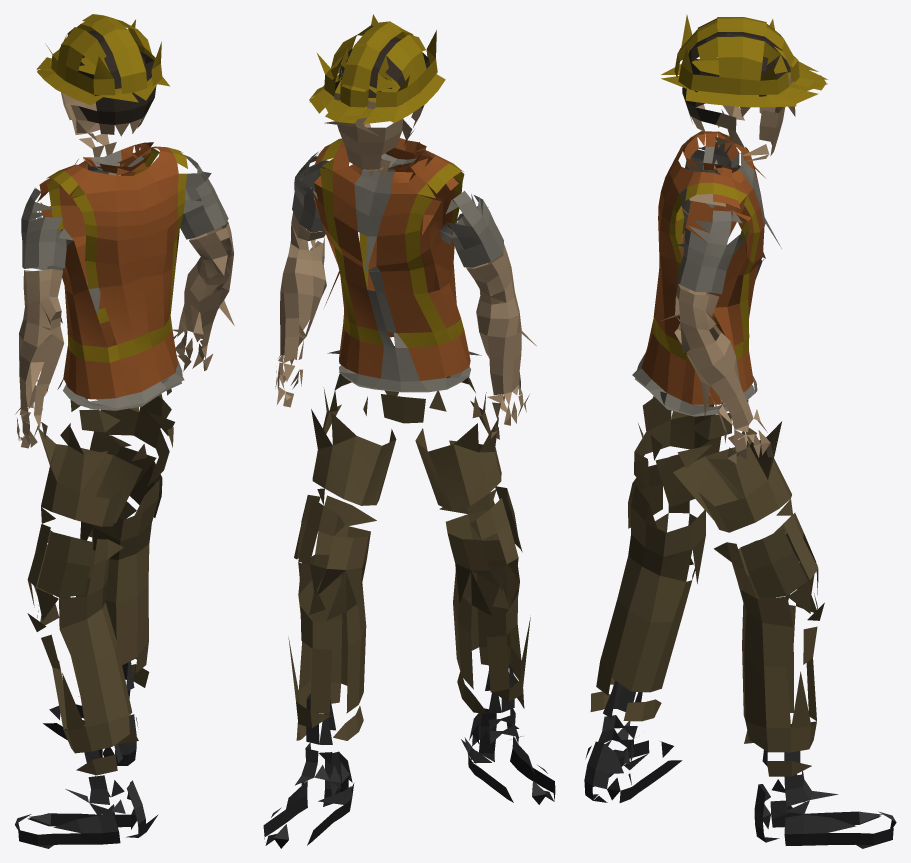
File: worker_idle.fbx
3 renders of one model, left to right at view 1: azimuth 30°, elevation 25°; view 2: azimuth 150°, elevation 25°; view 3: azimuth 270°, elevation 25°, orthographic. The views are drawn at different scales.
Visible parts, largest first — view 1: Worker_Feet; view 2: Worker_Feet; view 3: Worker_Feet.
Part boxes in pixels (x1,y1,x2,y2): Worker_Feet: (15, 14, 234, 848); Worker_Feet: (263, 14, 555, 848); Worker_Feet: (584, 15, 896, 848).
Bounding box in the file's own units: 0.3301 × 0.9892 × 0.3479.
